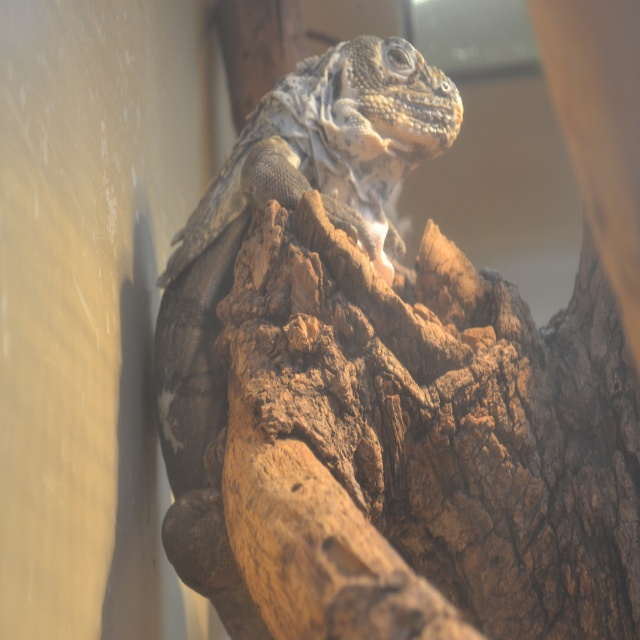Lizard: (150, 30, 463, 639)
